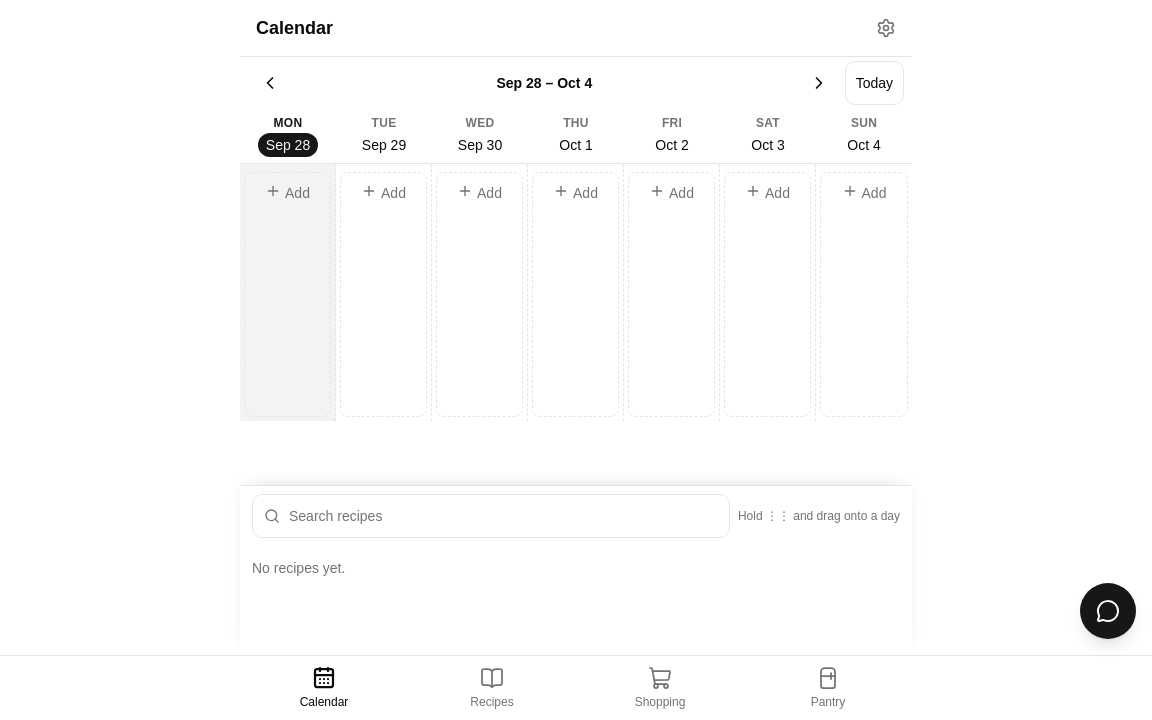
Scenario: chat bubble › dims the page with a scrim that closes the sheet when tapped
What coordinates should you click on to do the following:
click the button named "Open chat"
I would click on:
 (1108, 611)
Its box is [1080,583,1136,639].
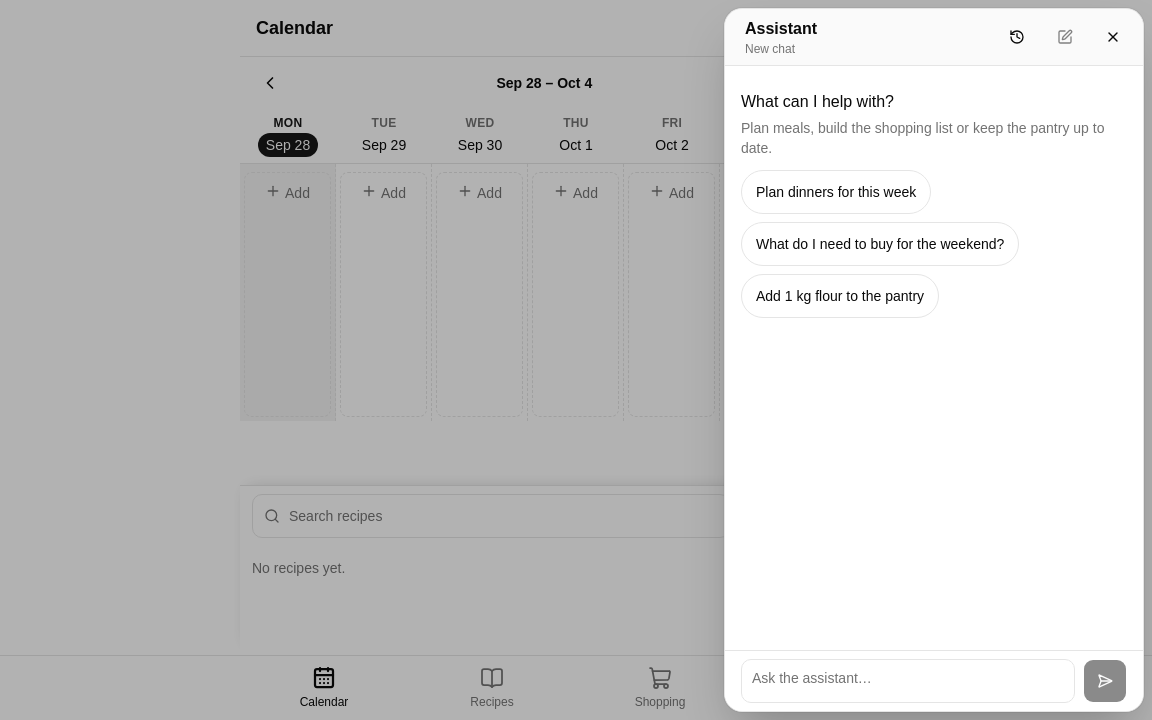
Now the dialog "Assistant" is shown, box [724,8,1144,712]
What coordinates should you click on to do the following:
click the element with test id "chat-scrim"
I would click on:
 (576, 360)
Its box is [0,0,1151,719].
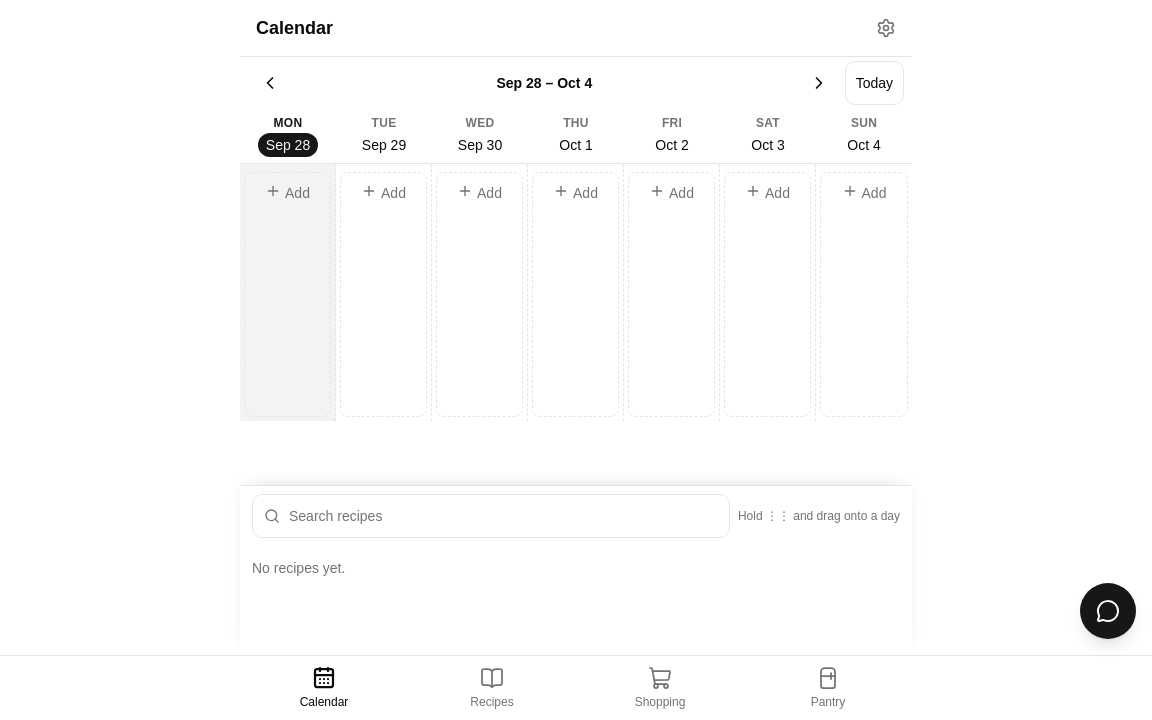
Now the dialog is gone
